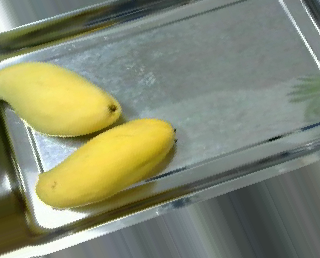Mango: (34, 117, 178, 211), (0, 59, 125, 136)
